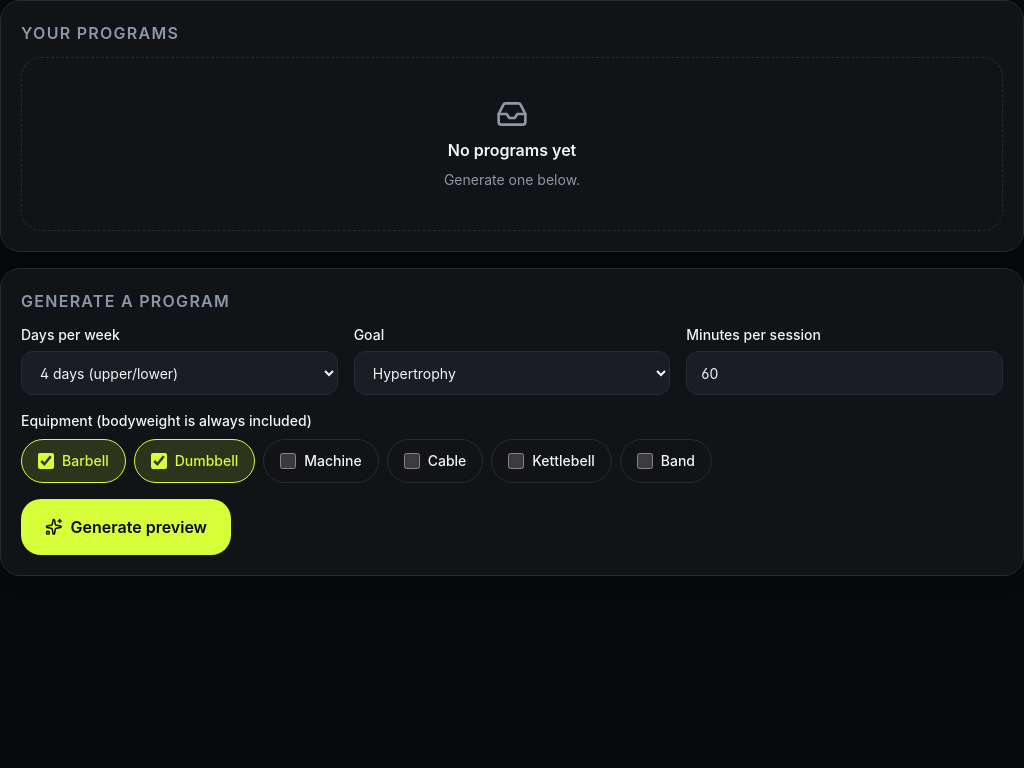
Scenario: program builder › says when the generator refuses, in the user's words, not the API's
Click the button "Generate preview": (126, 527) [21,499,231,555]
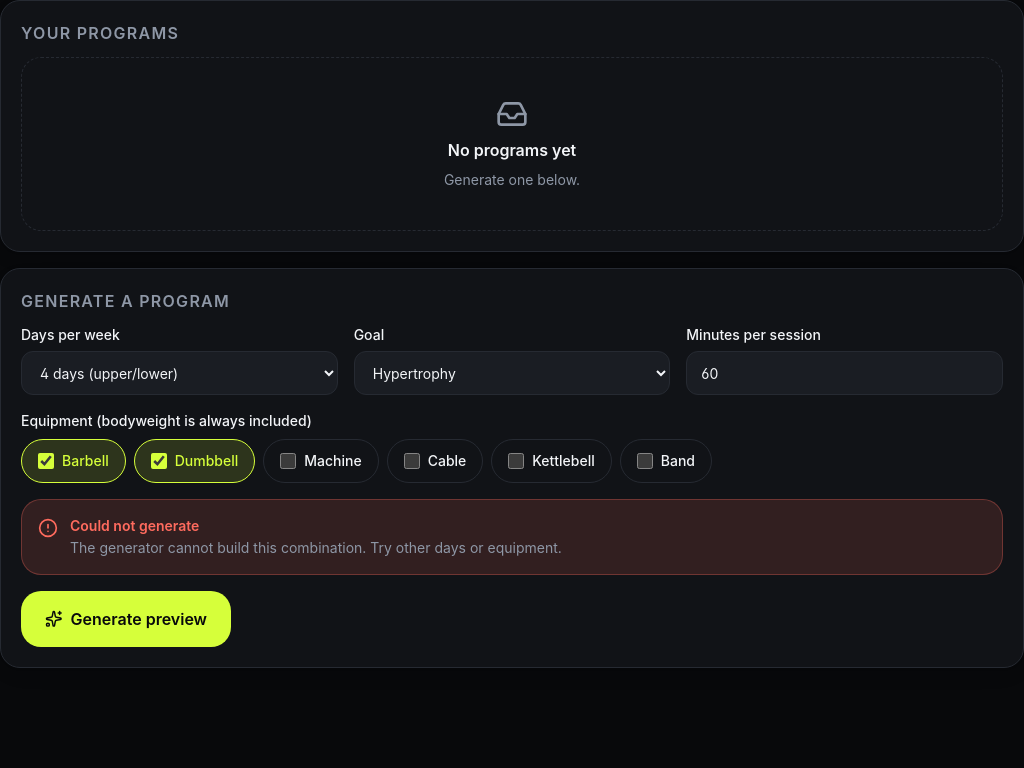
Expected: the message does not show "upper_lower", [21,499,1003,575]
Expected: the message shows "The generator cannot build this combination.", [70,539,562,556]
